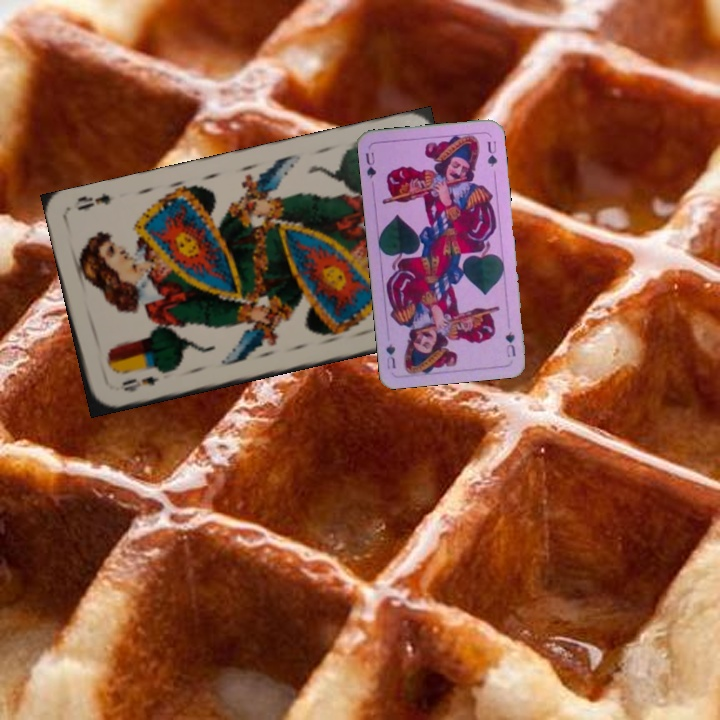EO: (118, 372, 162, 395)
GU: (361, 148, 379, 181), (501, 327, 518, 360)
